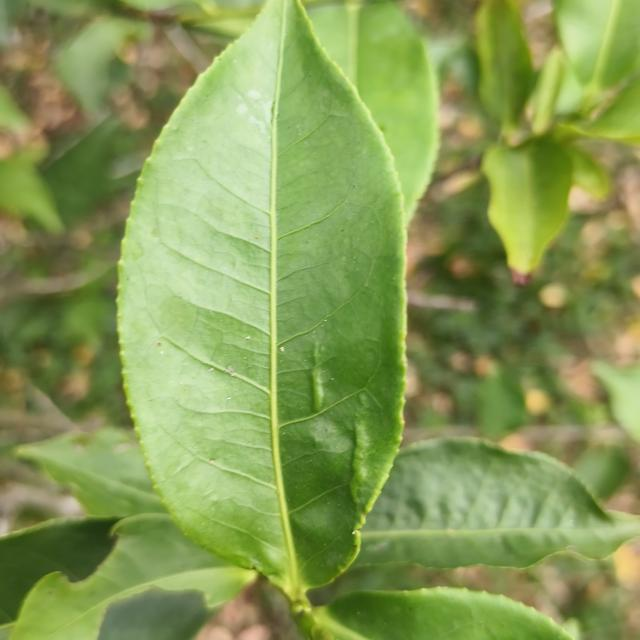Leaf: (118, 0, 406, 601), (355, 438, 640, 569), (10, 514, 256, 640), (308, 0, 438, 222), (315, 587, 570, 640), (16, 427, 166, 516), (482, 136, 572, 284), (0, 516, 119, 626), (55, 17, 150, 115), (553, 0, 640, 105), (476, 0, 533, 133), (0, 154, 63, 232), (592, 361, 640, 441)
